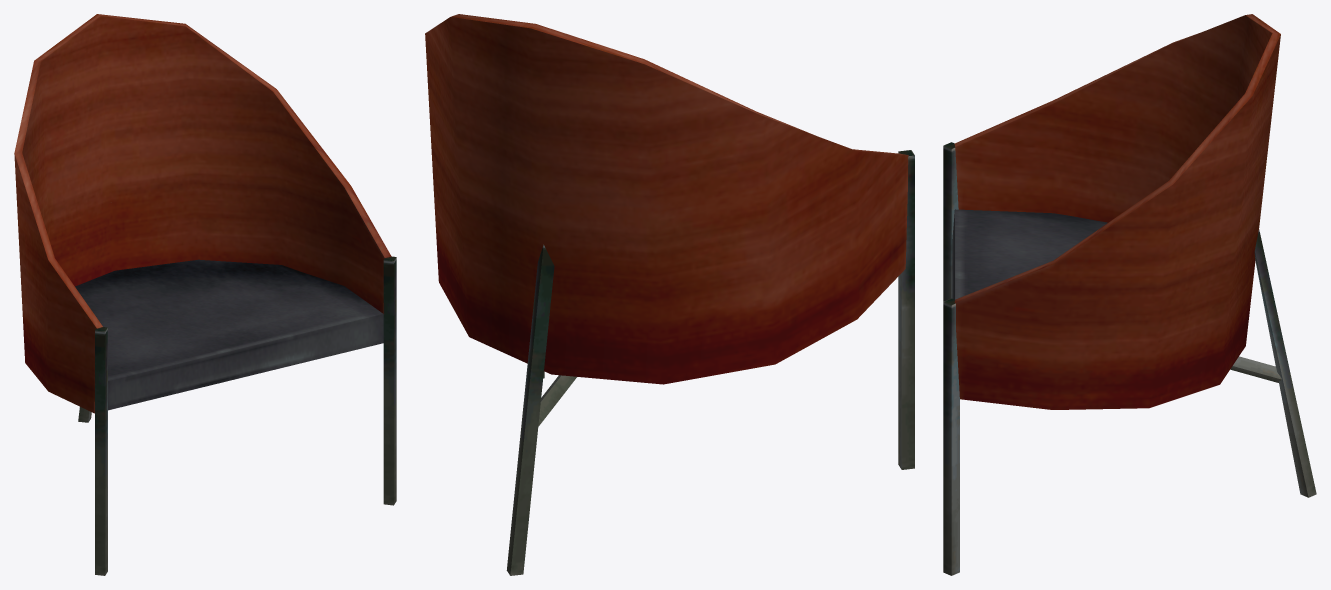
File: Chair3.fbx
3 views of the same model, side by side, from view 1: azimuth 30°, elevation 25°; view 2: azimuth 150°, elevation 25°; view 3: azimuth 270°, elevation 25° (orthographic). The views are drawn at different scales.
Visible parts, largest first — view 1: Empty_Mesh; view 2: Empty_Mesh; view 3: Empty_Mesh.
Part boxes in pixels (x1=…): Empty_Mesh: x1=14, y1=14, x2=396, y2=575; Empty_Mesh: x1=425, y1=14, x2=914, y2=575; Empty_Mesh: x1=943, y1=14, x2=1316, y2=575.
Bounding box in the file's own units: 72.67 × 95.31 × 69.96.
